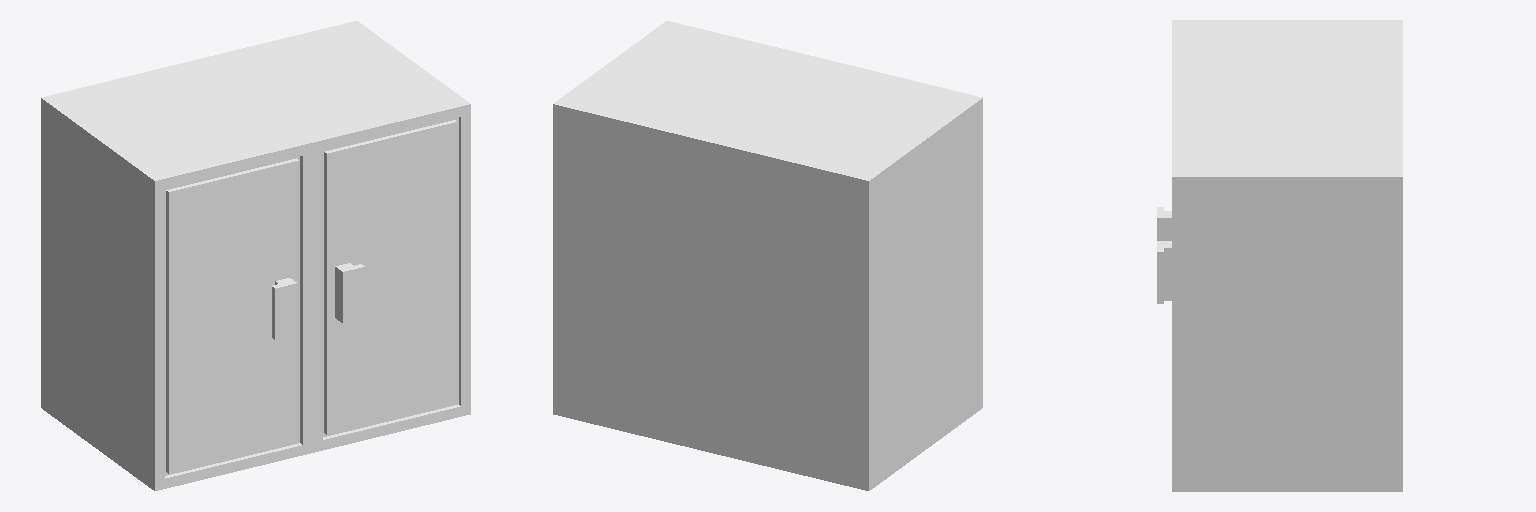
URDF robot description (model.urdf):
<?xml version="0.0" ?>
<robot name="model.urdf">
  <link name="baseLink">
    <contact>
      <friction_anchor/>
      <lateral_friction value="0.3"/>
      <rolling_friction value="0.0"/>
      <contact_cfm value="0.0"/>
      <contact_erp value="1.0"/>
    </contact>
    <inertial>
       <origin rpy="0 0 0" xyz="0 0 0"/>
       <mass value="0.1"/>
       <inertia ixx="8e-05" ixy="0" ixz="0" iyy="0.0002" iyz="0" izz="0.0002"/>
    </inertial>
    <visual>
      <geometry>
        <mesh filename="model.dae" scale="1 1 1"/>
      </geometry>
      <material name="white">
        <color rgba="1. 1. 1. 1."/>
      </material>
    </visual>
    <collision>
      <geometry>
    	 	<mesh filename="model.dae" scale="1 1 1"/>
      </geometry>
    </collision>
  </link>
</robot>

--- Render facts (derived) ---
The picture shows the robot from 3 angles, left to right: view 1: azimuth 30°, elevation 25°; view 2: azimuth 150°, elevation 25°; view 3: azimuth 270°, elevation 25°; orthographic projection.
Model model.urdf with 1 links and 0 joints (none), rooted at baseLink, posed every joint at zero.
Links seen in each view (by area): view 1: baseLink; view 2: baseLink; view 3: baseLink.
Boxes of the visible links, left/top/right/bottom form: baseLink: left=41, top=21, right=470, bottom=490; baseLink: left=553, top=21, right=982, bottom=490; baseLink: left=1157, top=20, right=1402, bottom=491.
Bounding box of the posed robot: 2.56 × 1.71 × 2.4 m (x, y, z).
1 mesh visuals loaded from 1 distinct referenced files (1 Collada DAE).
